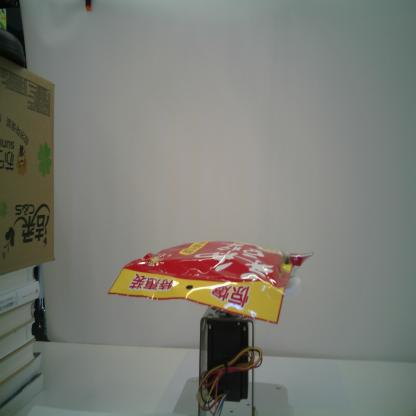Instant Drink: (106, 236, 316, 324)
